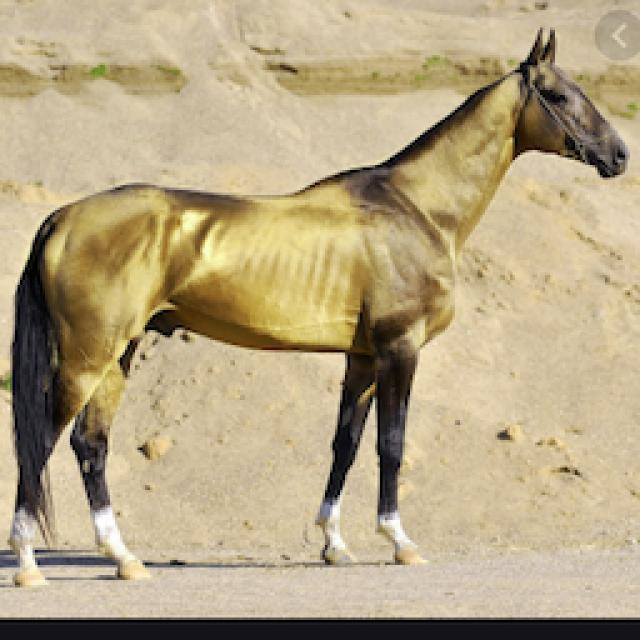Horse: (0, 22, 635, 590)
